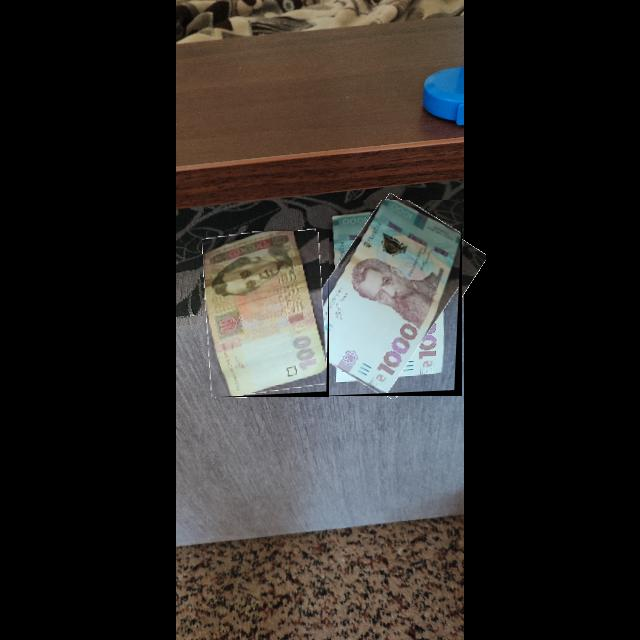1000uah: (306, 200, 462, 395)
100uah: (203, 231, 327, 397)
